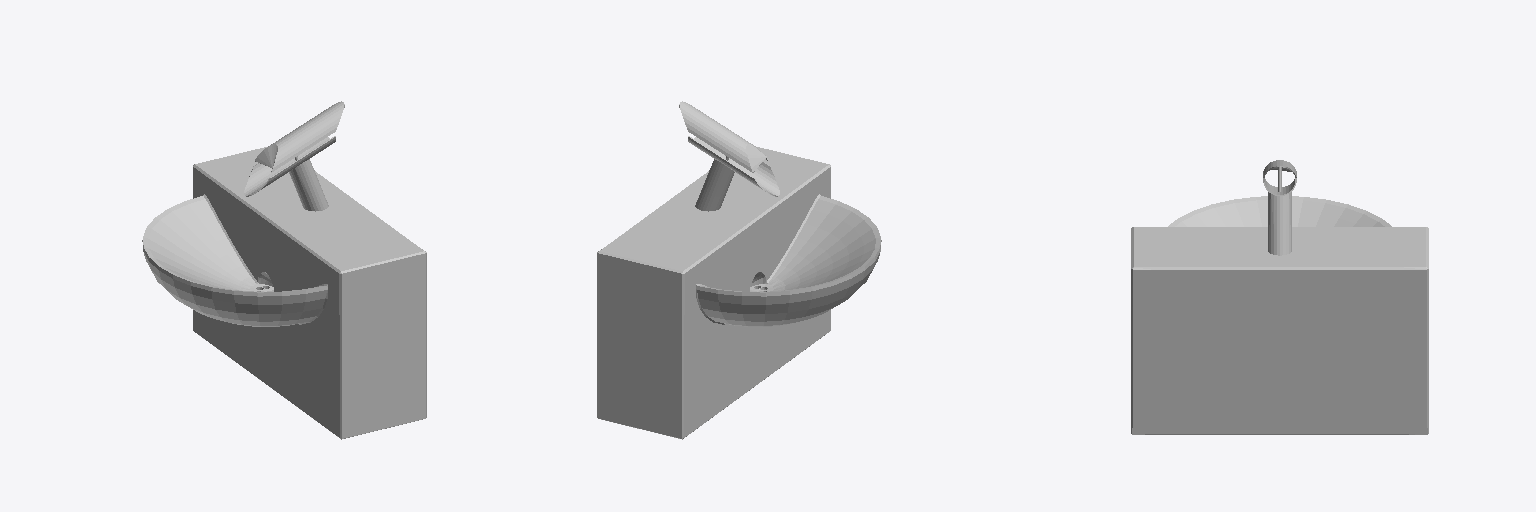
File: pia_banheiro.obj
The picture shows the model from 3 angles: view 1: azimuth 30°, elevation 25°; view 2: azimuth 150°, elevation 25°; view 3: azimuth 270°, elevation 25°; orthographic projection.
Visible parts, largest first — view 1: pia_4_sink, pia_2_knob, pia_5_glasspout, pia_1_fawcetneck; view 2: pia_4_sink, pia_2_knob, pia_1_fawcetneck, pia_5_glasspout; view 3: pia_4_sink, pia_1_fawcetneck.
Part boxes in pixels (x1,y1,x2,y2): pia_4_sink: (142, 147, 426, 439); pia_2_knob: (255, 101, 344, 172); pia_5_glasspout: (244, 136, 335, 196); pia_1_fawcetneck: (289, 159, 328, 213); pia_4_sink: (597, 147, 881, 439); pia_2_knob: (679, 101, 768, 172); pia_1_fawcetneck: (687, 159, 734, 213); pia_5_glasspout: (688, 136, 779, 196); pia_4_sink: (1131, 196, 1428, 434); pia_1_fawcetneck: (1262, 192, 1299, 257).
Bounding box in the file's own units: 0.9132 × 1.19 × 1.21.